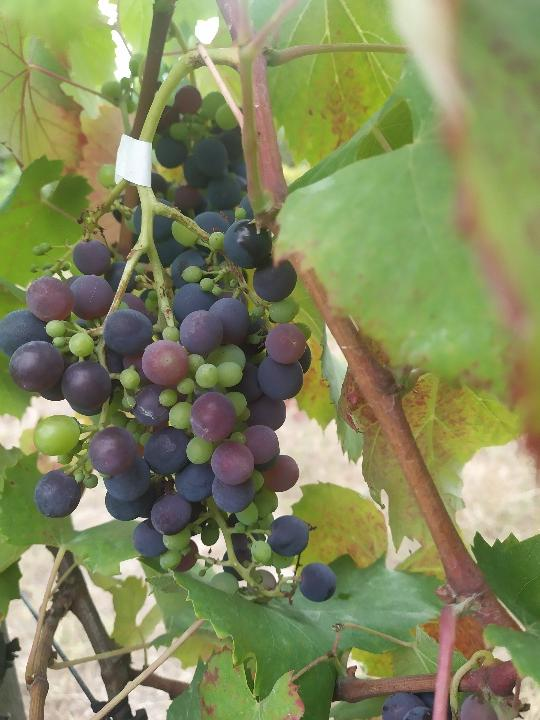grape: (0, 197, 340, 606)
